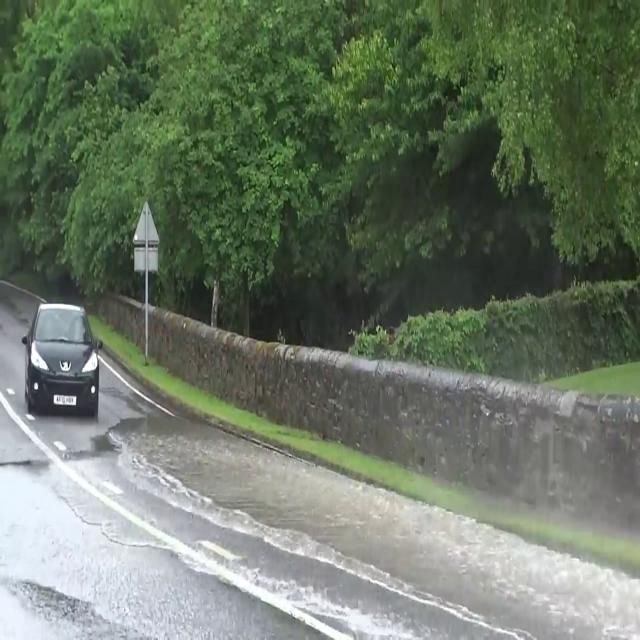license-plate-annotation: (53, 392, 77, 408)
